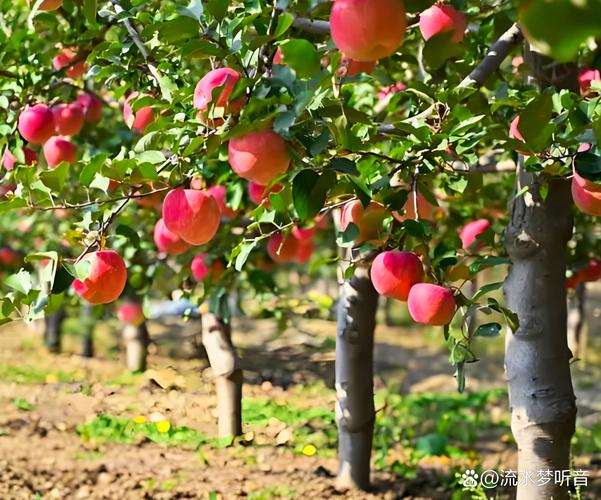ripe: (327, 1, 409, 64), (223, 117, 290, 186), (187, 68, 263, 126), (161, 182, 224, 246), (68, 246, 131, 305), (366, 242, 421, 301), (417, 1, 473, 51), (403, 281, 455, 328), (11, 102, 59, 147)
